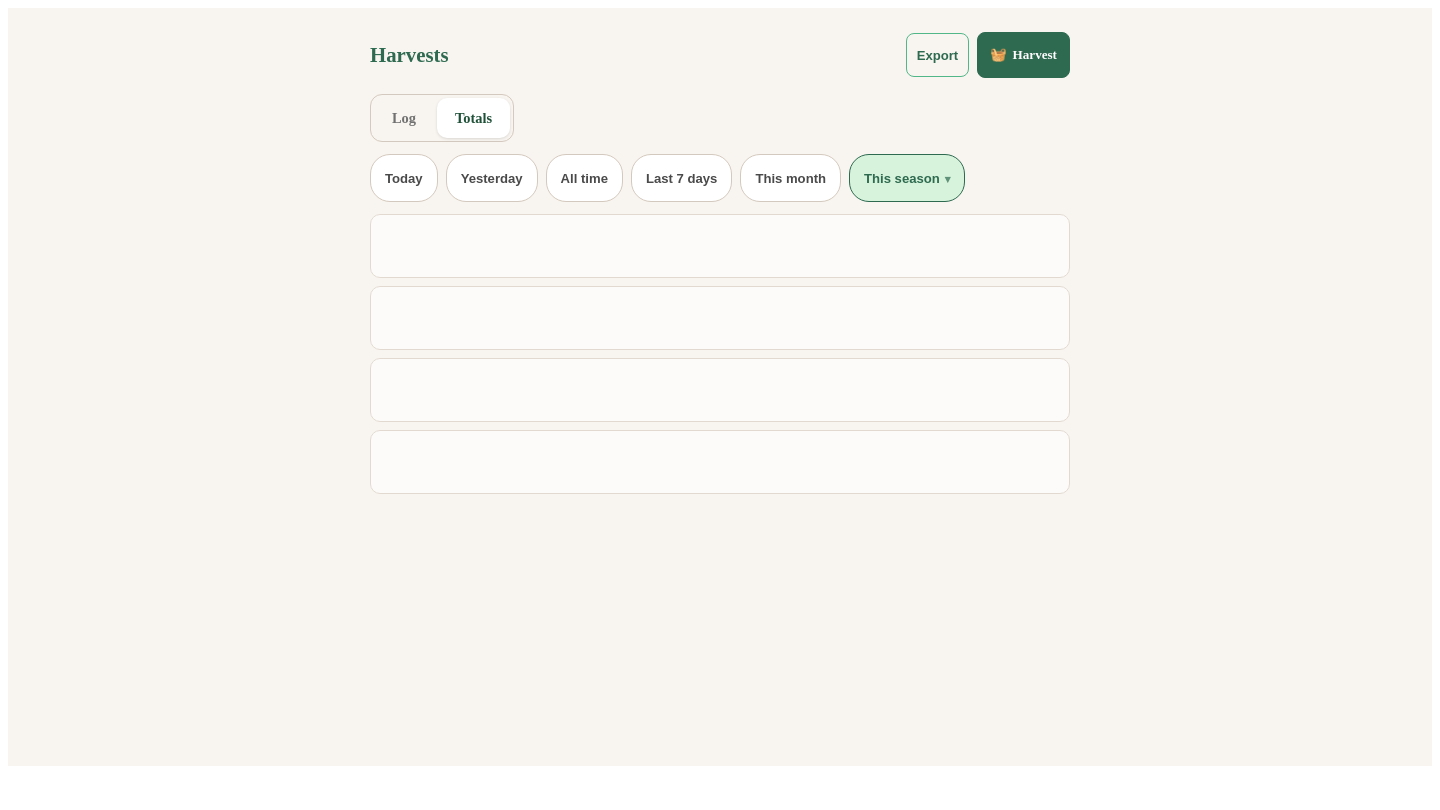
Test: V4-HIDEQUALITY-001 rollback lever — output surface (Harvests) › re-renders QualityDots for a rated harvest with the flag off
Click the radio button labelled "Log": point(404, 118) 374,98 -> 434,138
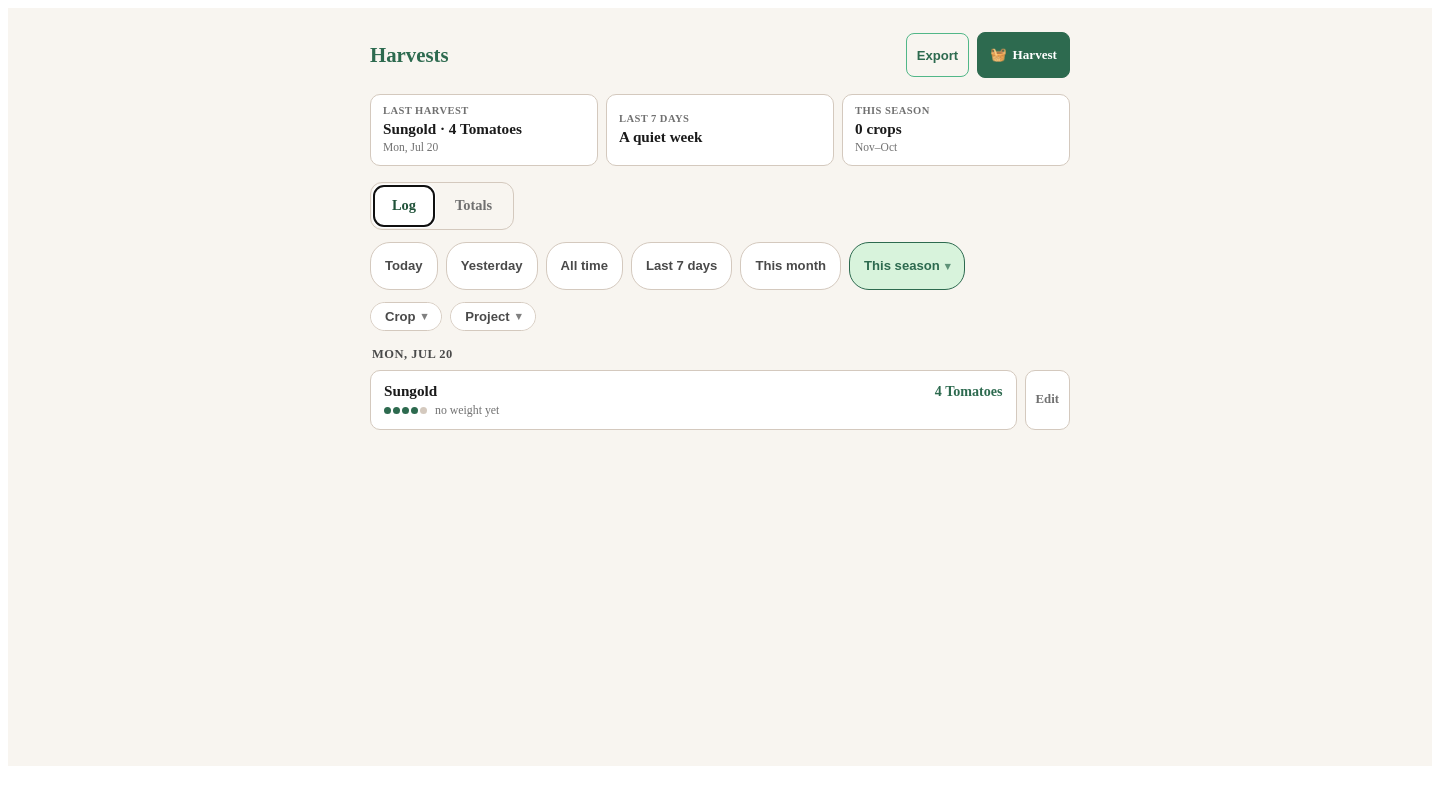
Expected: the picture named "Quality 4 of 5" is shown, 384,407 -> 427,414
